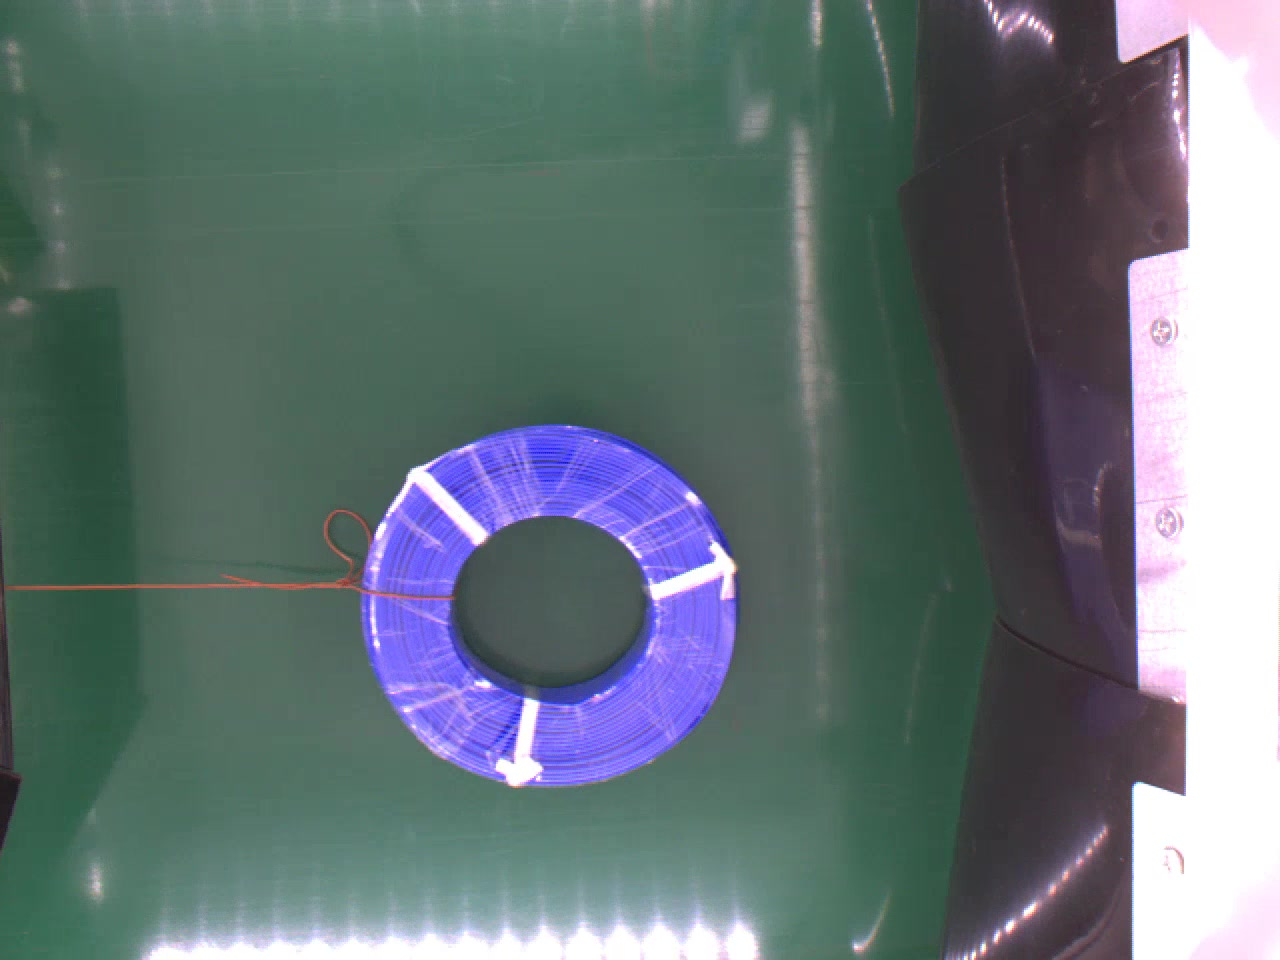blue: (359, 419, 738, 793)
